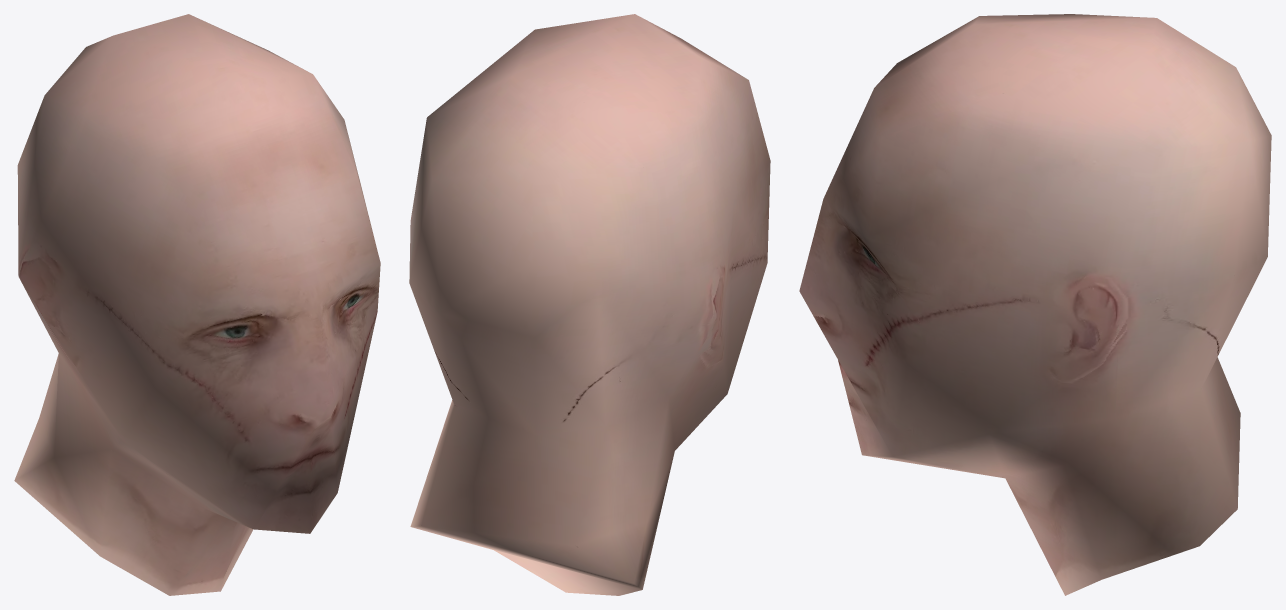
Rendered from head_100.glb.
3 views of the same model, side by side, from view 1: azimuth 30°, elevation 25°; view 2: azimuth 150°, elevation 25°; view 3: azimuth 270°, elevation 25° (orthographic).
Visible parts, largest first — view 1: Mesh1.0; view 2: Mesh1.0; view 3: Mesh1.0.
Part boxes in pixels (x1=…): Mesh1.0: x1=14, y1=14, x2=380, y2=595; Mesh1.0: x1=409, y1=14, x2=770, y2=595; Mesh1.0: x1=799, y1=14, x2=1271, y2=595.
Bounding box in the file's own units: 1.09 × 1.88 × 1.44.
Materials: 1 (1 with a texture image).
